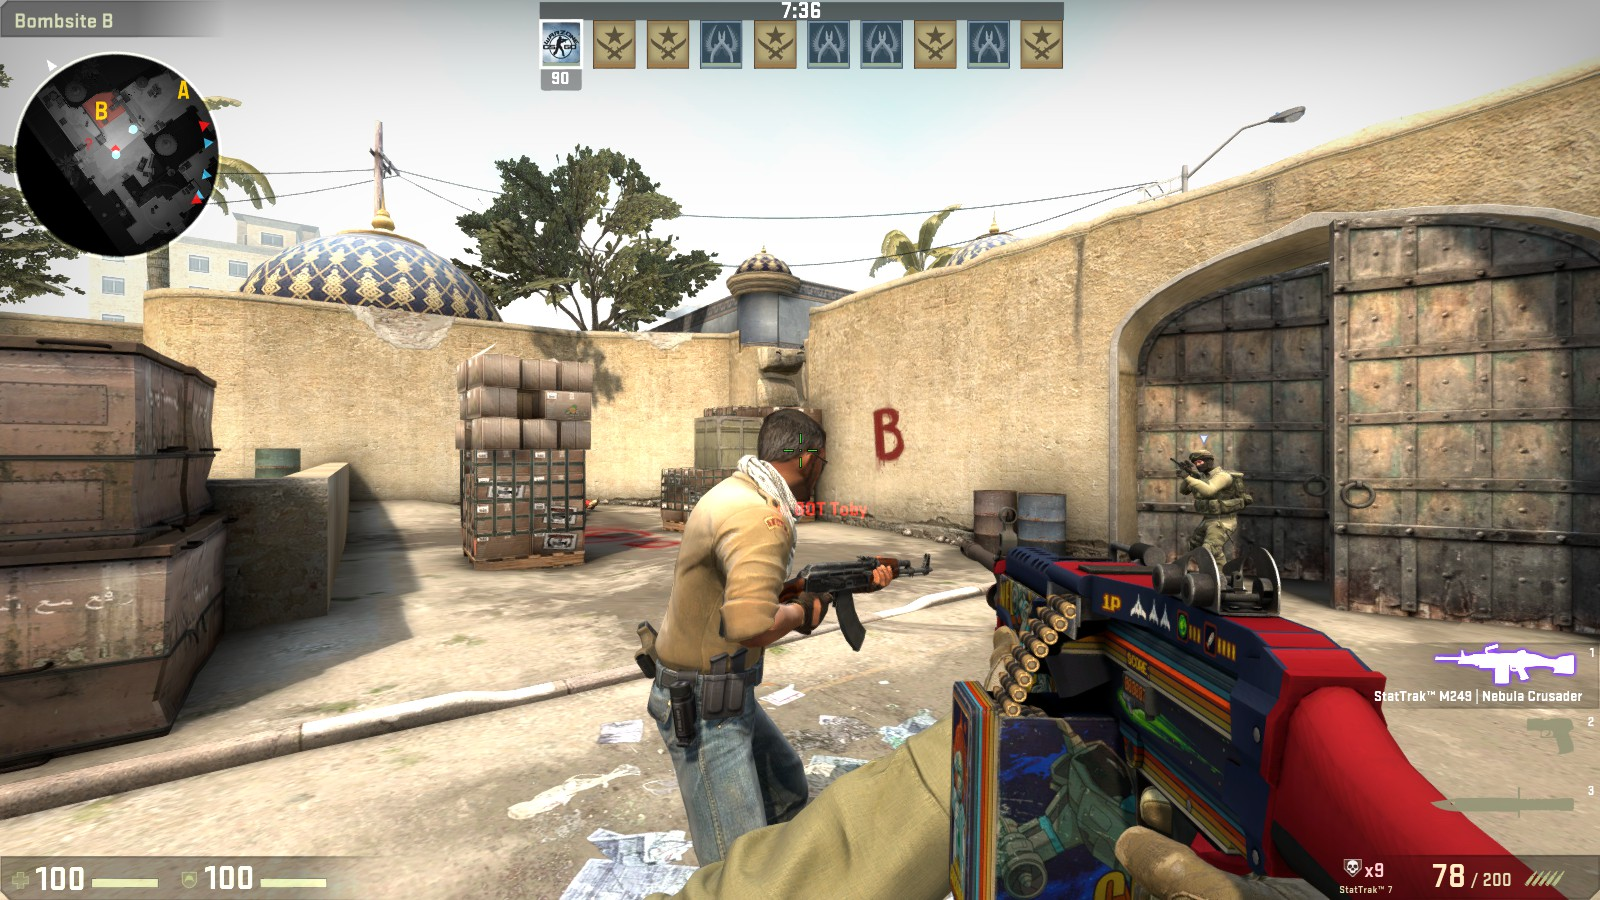c: (1178, 446, 1248, 560)
ch: (1188, 447, 1224, 478)
t: (641, 397, 830, 847)
th: (754, 401, 827, 510)
